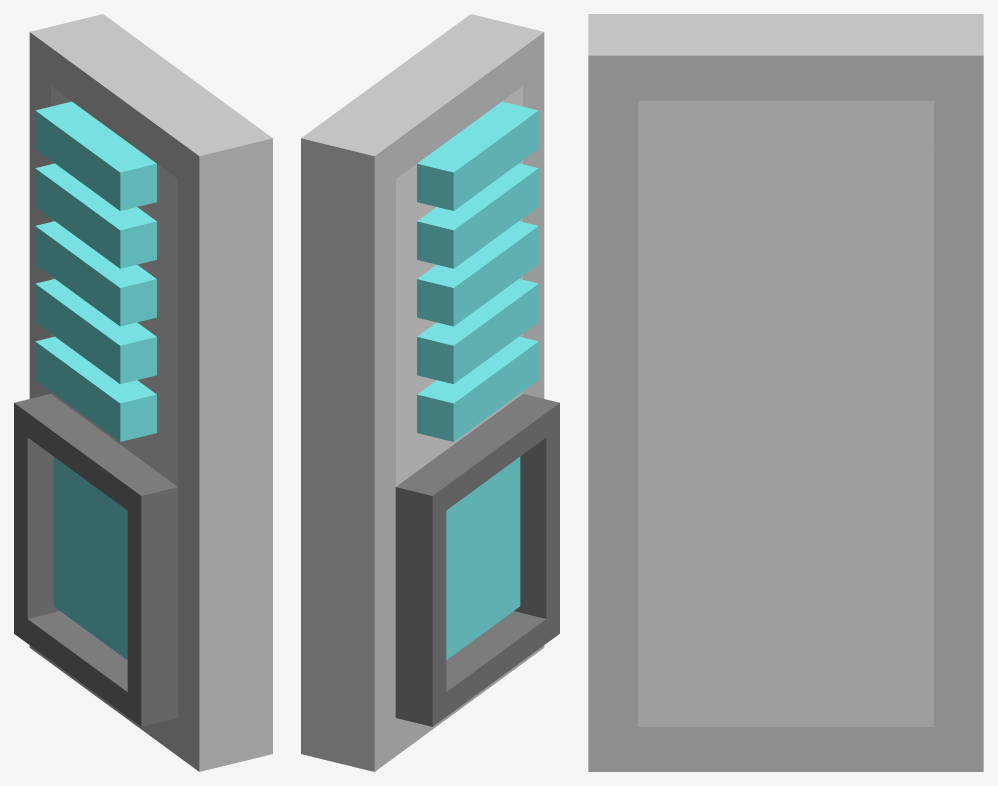
The model's file is Dispenser.fbx.
The picture shows the model from 3 angles, left to right: view 1: azimuth 30°, elevation 25°; view 2: azimuth 150°, elevation 25°; view 3: azimuth 270°, elevation 25°; orthographic projection. The views are drawn at different scales.
Visible parts, largest first — view 1: cube, tube, cube_1, cube_6, cube_3, cube_5, cube_4, cube_2; view 2: cube, tube, cube_1, cube_6, cube_3, cube_5, cube_4, cube_2; view 3: cube.
Boxes of the visible parts, <box> form: cube: <box>29,14,272,771</box>; tube: <box>14,394,178,726</box>; cube_1: <box>53,457,127,659</box>; cube_6: <box>35,101,156,210</box>; cube_3: <box>35,279,156,384</box>; cube_5: <box>35,163,156,268</box>; cube_4: <box>35,221,156,326</box>; cube_2: <box>35,336,156,441</box>; cube: <box>301,14,544,771</box>; tube: <box>395,394,559,726</box>; cube_1: <box>446,457,520,659</box>; cube_6: <box>417,101,538,210</box>; cube_3: <box>417,279,538,384</box>; cube_5: <box>417,163,538,268</box>; cube_4: <box>417,221,538,326</box>; cube_2: <box>417,336,538,441</box>; cube: <box>588,14,983,771</box>.
Bounding box in the file's own units: 18.75 × 100 × 50.
Materials: 1 (1 with a texture image).
